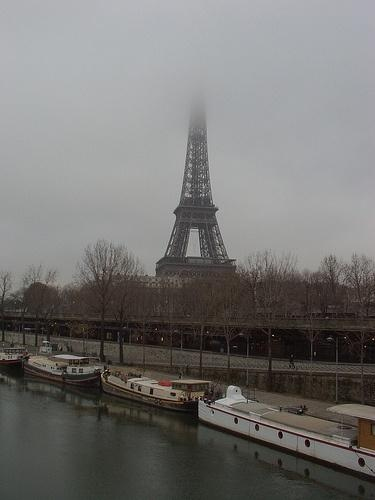boat: (199, 384, 375, 483), (102, 366, 213, 416), (22, 341, 103, 396), (1, 341, 28, 374)
